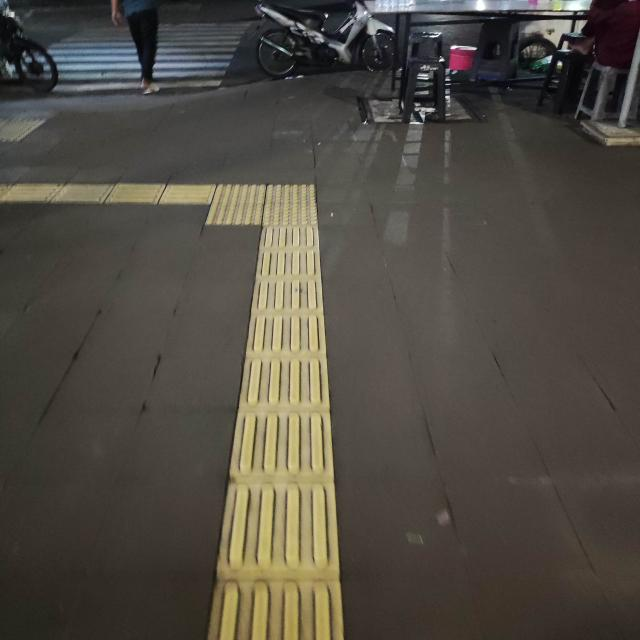kiri: (135, 155, 354, 257)
